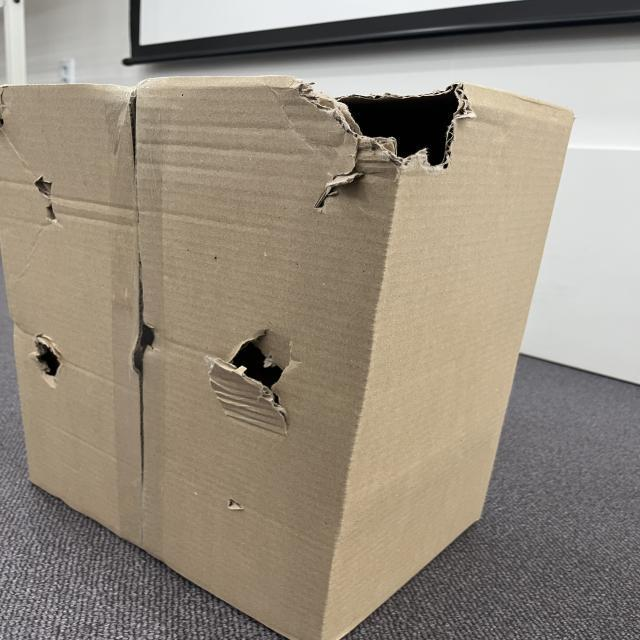hole: (282, 79, 482, 175), (208, 324, 298, 405), (26, 332, 70, 386)
